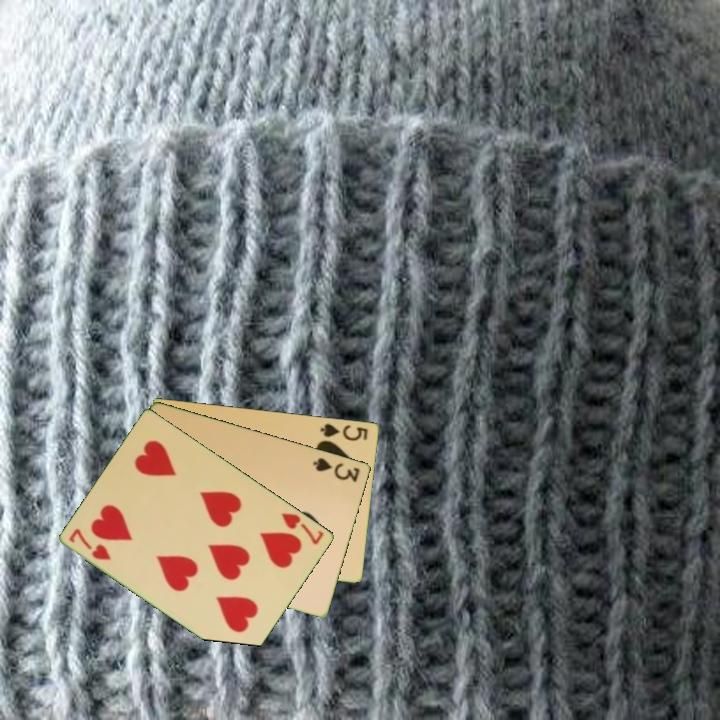3s: (310, 454, 363, 485)
5s: (317, 419, 371, 444)
7h: (278, 509, 327, 548), (66, 525, 114, 563)
